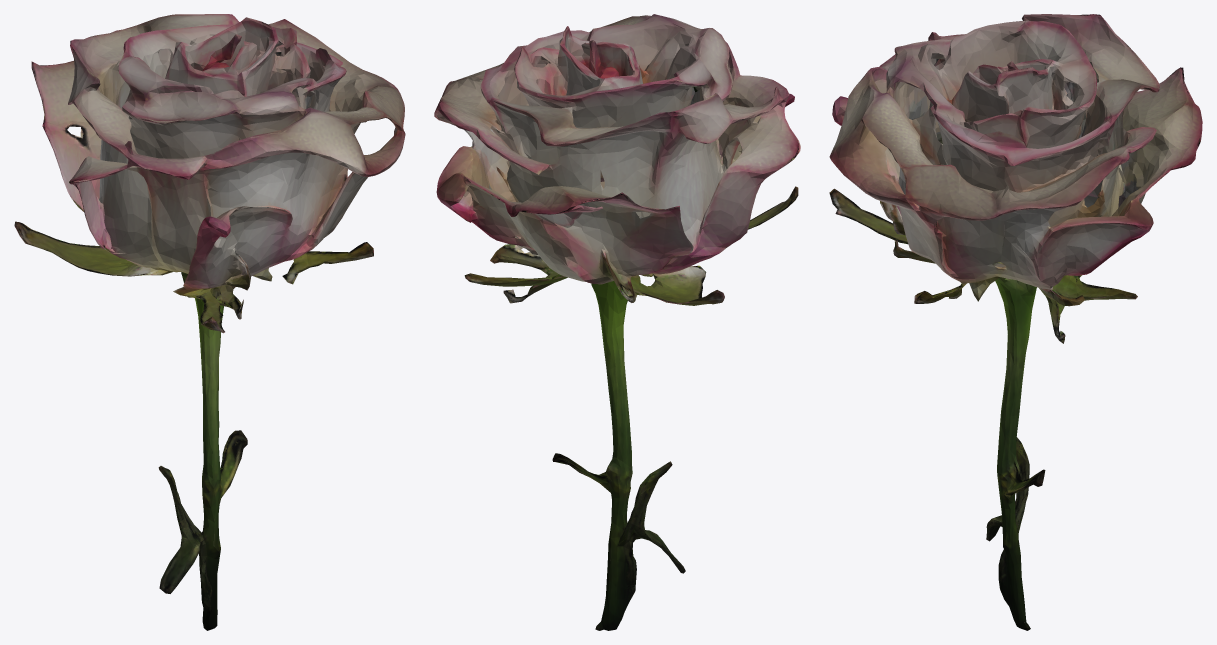
The picture shows the model from 3 angles, left to right: view 1: azimuth 30°, elevation 25°; view 2: azimuth 150°, elevation 25°; view 3: azimuth 270°, elevation 25°; orthographic projection. The views are drawn at different scales.
Parts seen in each view (by area): view 1: world; view 2: world; view 3: world.
Part boxes in pixels (<box>): world: <box>14,14,405,630</box>; world: <box>434,14,800,630</box>; world: <box>829,14,1202,630</box>.
Bounding box in the file's own units: 0.5739 × 0.9628 × 0.5616.
1 material, 1 textured.
